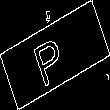P_NW: (35, 25, 75, 85)
